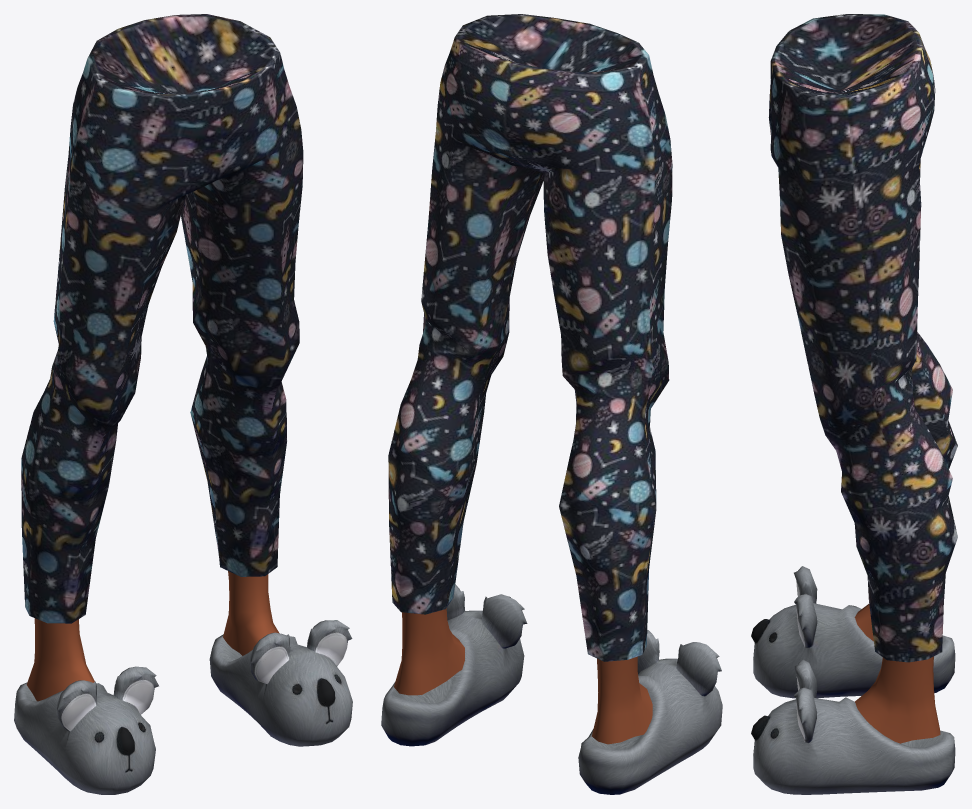
3 renders of one model, left to right at view 1: azimuth 30°, elevation 25°; view 2: azimuth 150°, elevation 25°; view 3: azimuth 270°, elevation 25°, orthographic.
Parts seen in each view (by area): view 1: Wolf3D_Outfit_Bottom.001, Wolf3D_Outfit_Footwear.001, Wolf3D_Body; view 2: Wolf3D_Outfit_Bottom.001, Wolf3D_Outfit_Footwear.001, Wolf3D_Body; view 3: Wolf3D_Outfit_Bottom.001, Wolf3D_Outfit_Footwear.001, Wolf3D_Body.
Boxes of the visible parts, x1=… form: Wolf3D_Outfit_Bottom.001: x1=21, y1=14, x2=303, y2=623; Wolf3D_Outfit_Footwear.001: x1=14, y1=620, x2=352, y2=794; Wolf3D_Body: x1=26, y1=571, x2=279, y2=701; Wolf3D_Outfit_Bottom.001: x1=388, y1=14, x2=672, y2=661; Wolf3D_Outfit_Footwear.001: x1=381, y1=584, x2=722, y2=794; Wolf3D_Body: x1=394, y1=608, x2=652, y2=744; Wolf3D_Outfit_Bottom.001: x1=768, y1=14, x2=957, y2=662; Wolf3D_Outfit_Footwear.001: x1=751, y1=566, x2=955, y2=794; Wolf3D_Body: x1=854, y1=604, x2=940, y2=743.
Bounding box in the file's own units: 4.92 × 11.01 × 3.01.
Materials: 3 (2 with a texture image).
